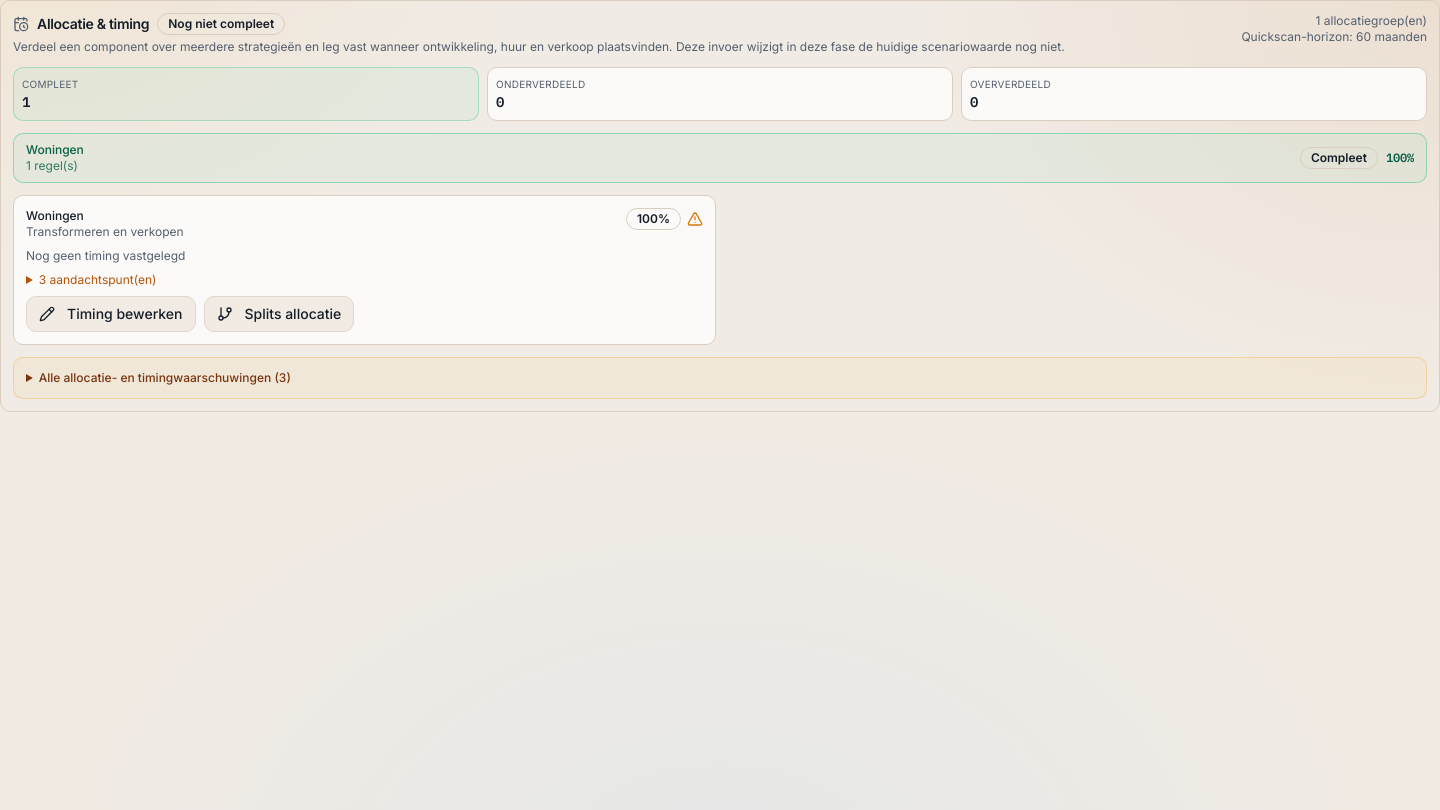
Scenario: ComponentAllocationTimingWorkspace › blokkeert een ongeldige ontwikkelvolgorde vóór onUpdate
The width and height of the screenshot is (1440, 810).
Later steps or results of the test are not shown.
Click the button "Timing bewerken" at {"x": 111, "y": 314}, box [26, 296, 196, 332]
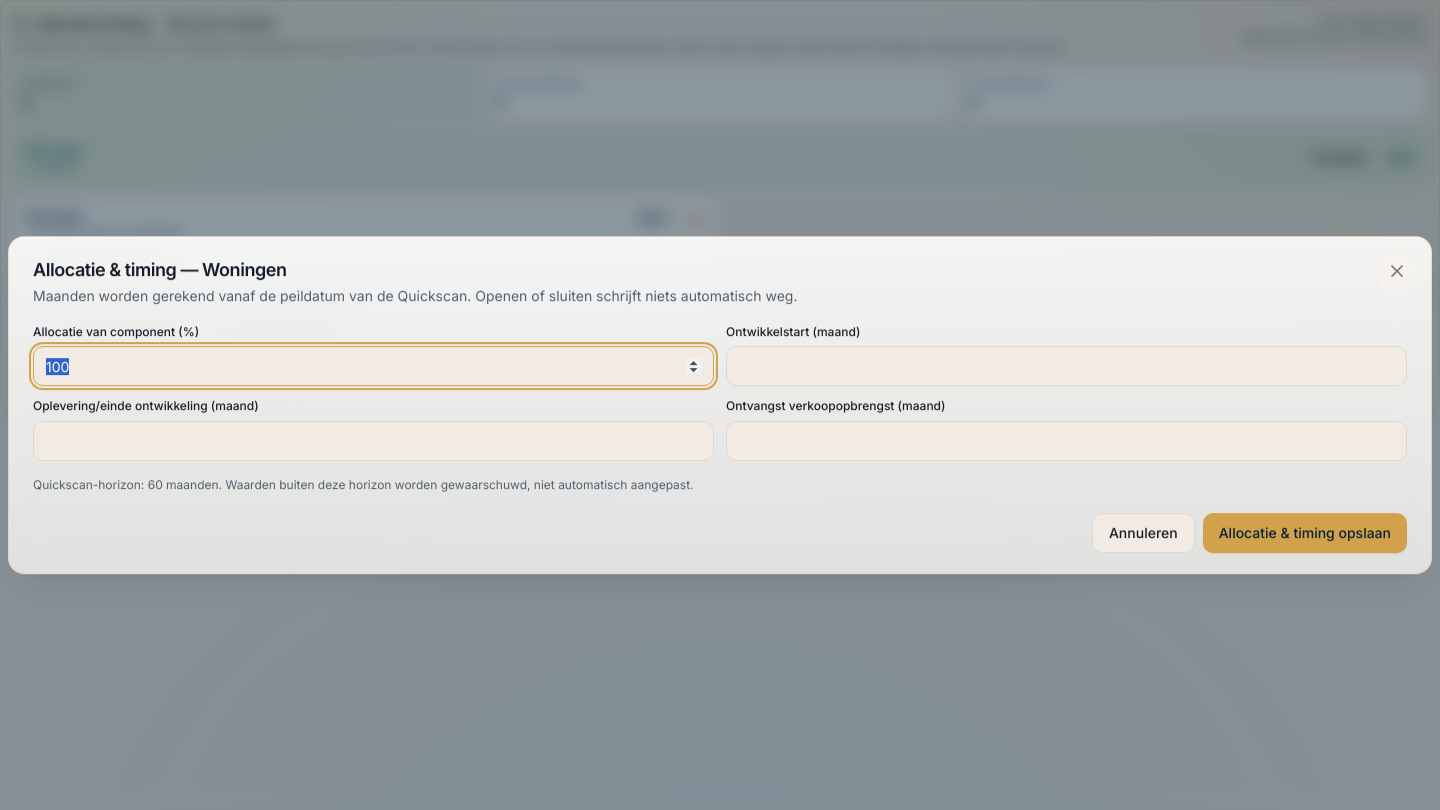
Now the number of number fields is 4, box [33, 346, 714, 386]; [726, 346, 1407, 386]; [33, 421, 714, 461]; [726, 421, 1407, 461]
